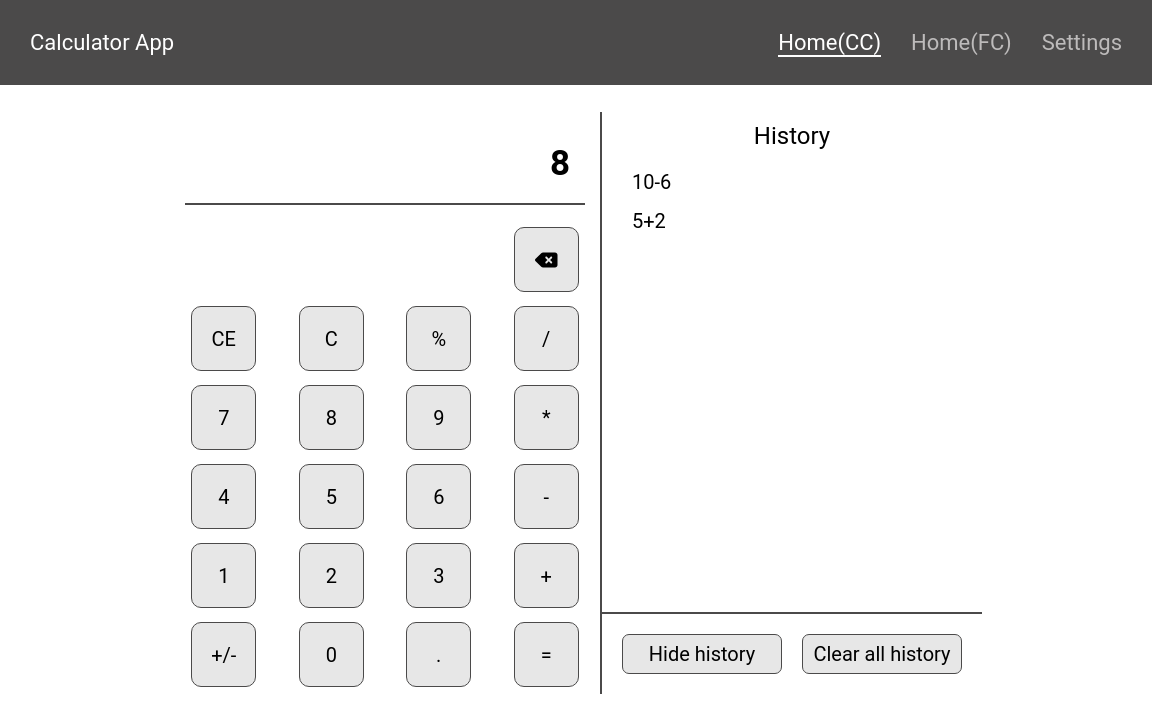
Test case: Home CC E2E › should perform multiplication of two numbers
The image size is (1152, 720).
Click the text with test id "btn*" at [547, 418], box [514,385,579,450]
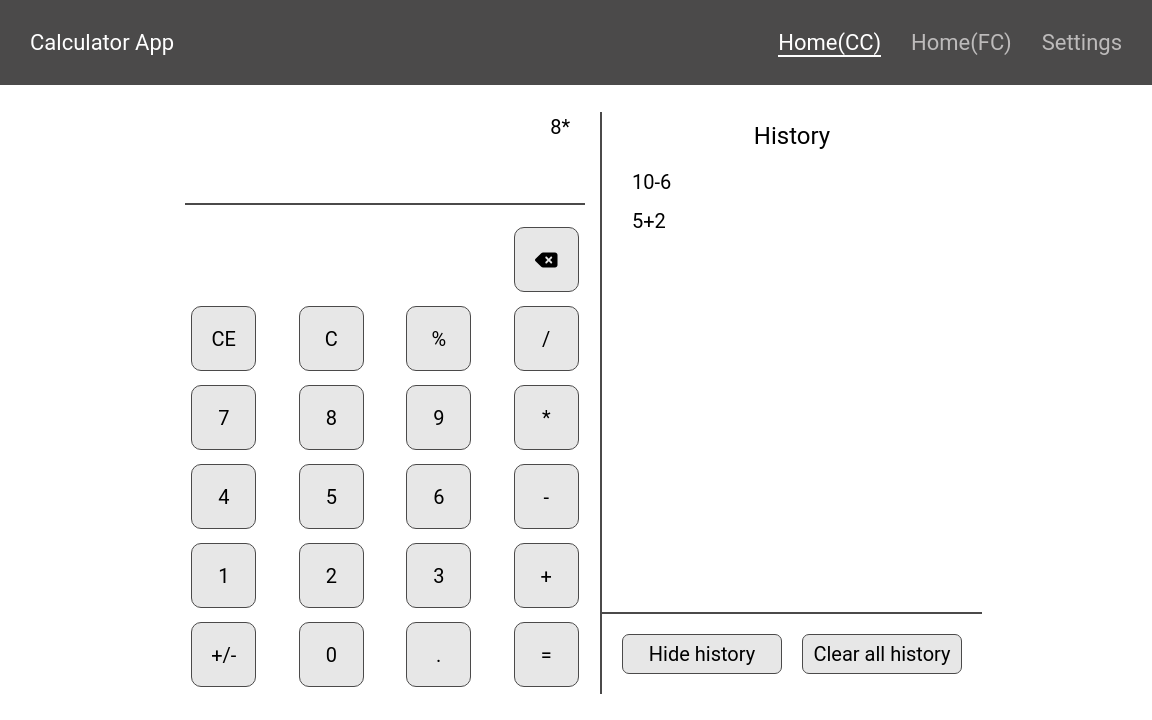
Click the text with test id "btn3" at [439, 576], box [406,543,471,608]
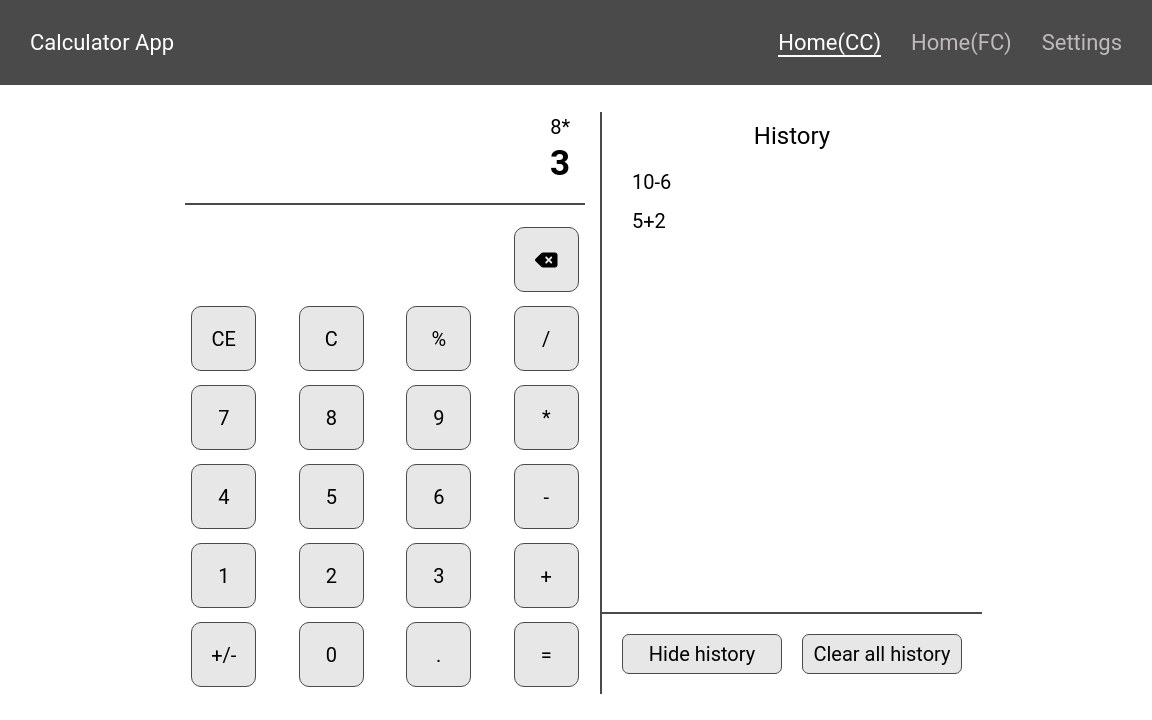
Click the text with test id "btn=" at [547, 655], box [514,622,579,687]
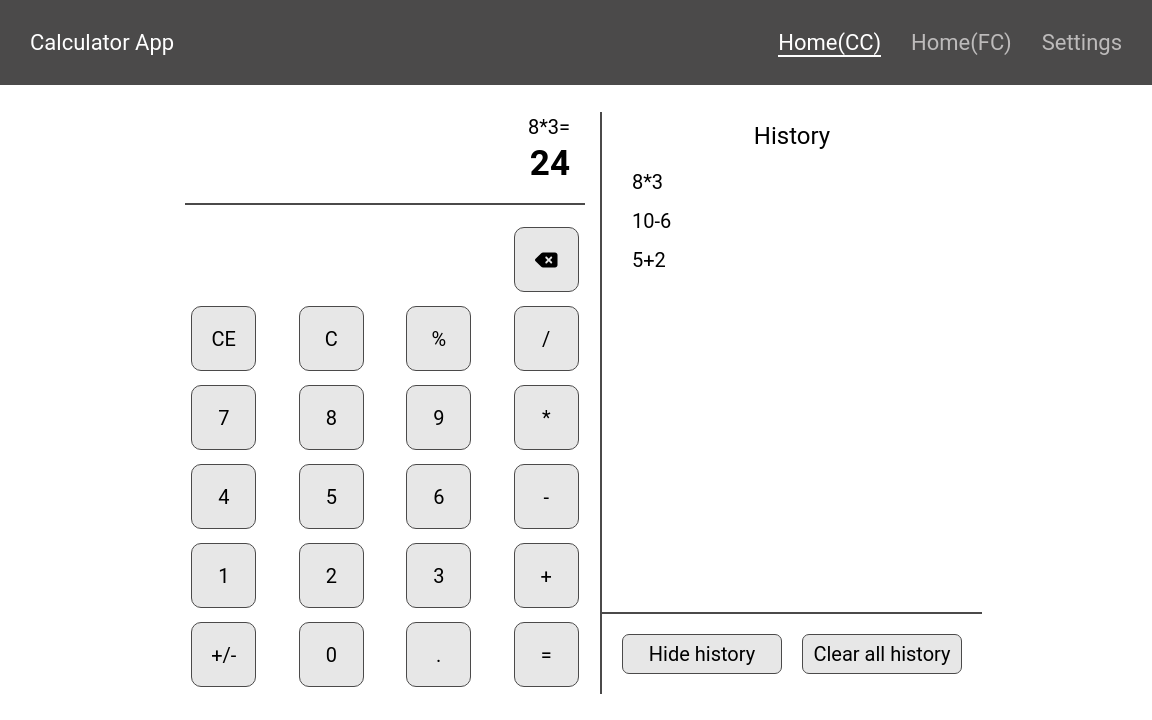
expect the text with test id "displayExpr" reads "8*3=": met, box [528,115,570,138]
expect the text with test id "displayInput" reads "24": met, box [530,143,570,184]
